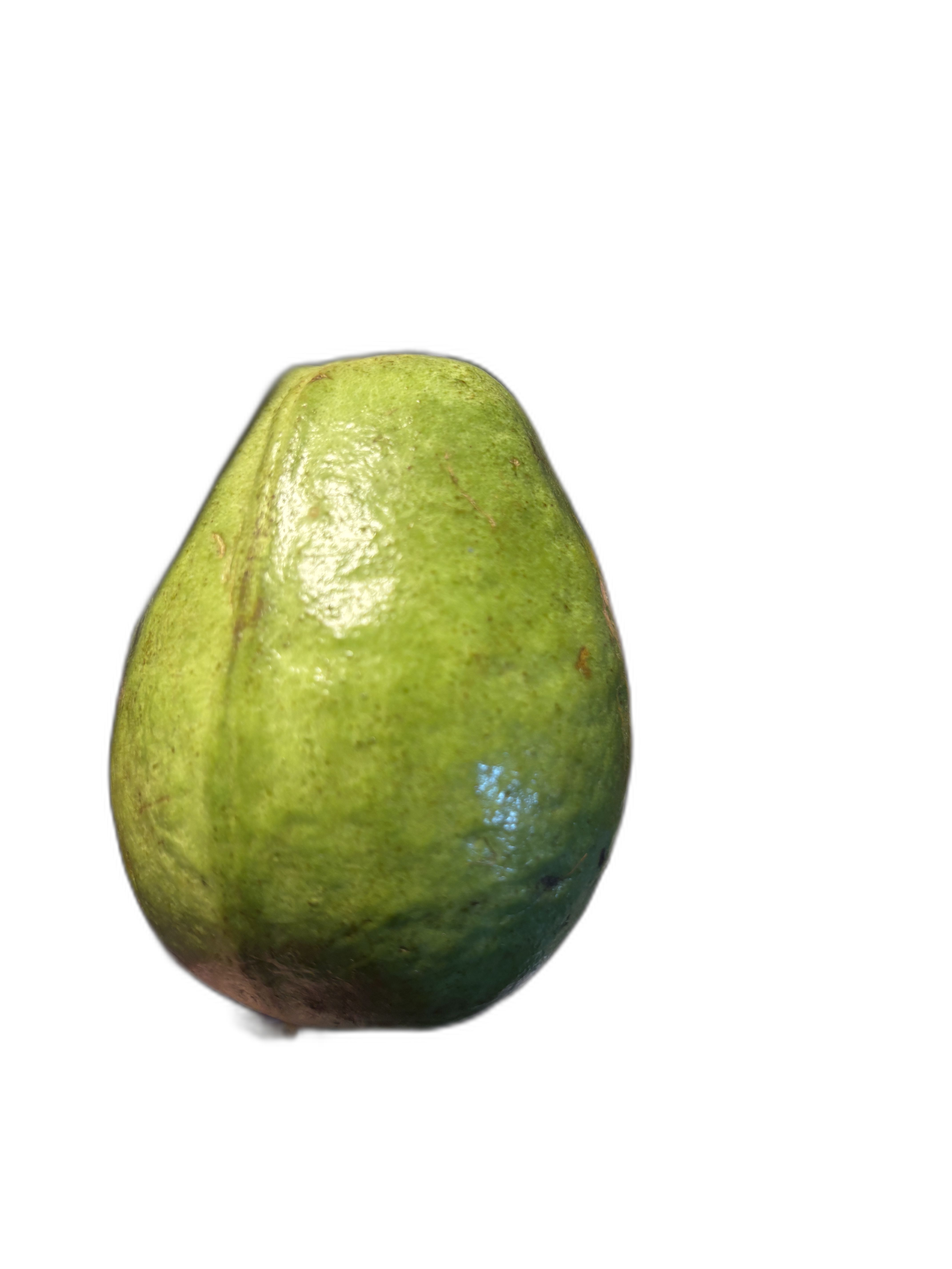guava: (60, 119, 863, 1190)
